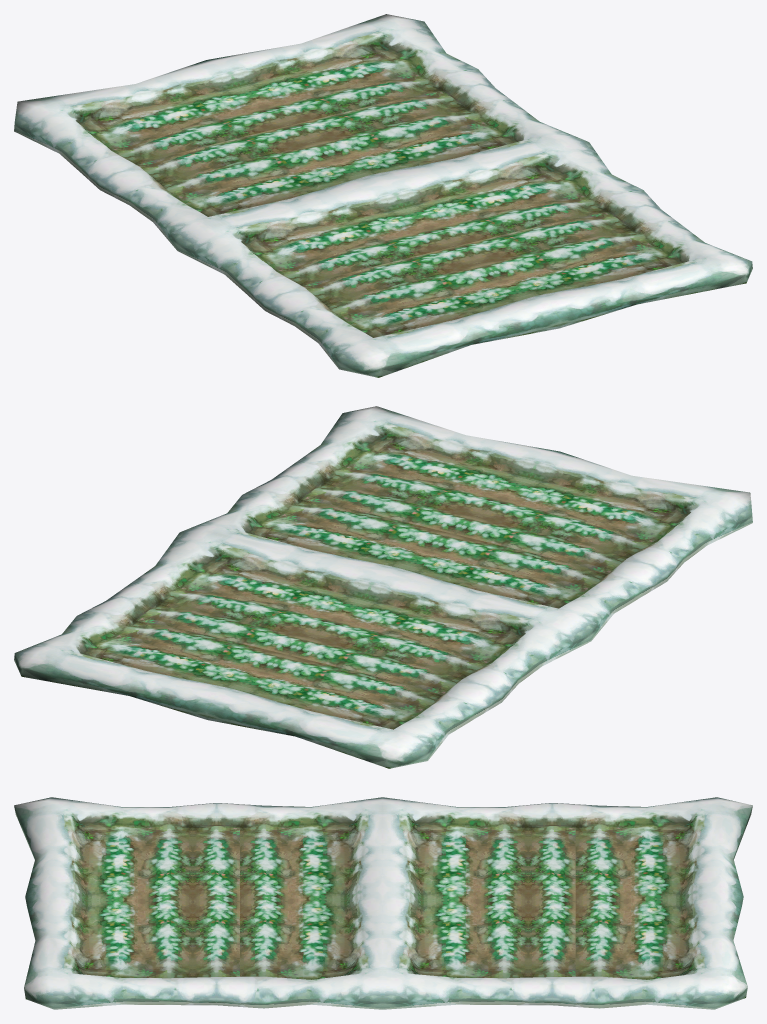
File: SM_Vegetable_01.fbx
The picture shows the model from 3 angles, top to bottom: view 1: azimuth 30°, elevation 25°; view 2: azimuth 150°, elevation 25°; view 3: azimuth 270°, elevation 25°; orthographic projection.
Visible parts, largest first — view 1: SM_Vegetable_01; view 2: SM_Vegetable_01; view 3: SM_Vegetable_01.
Boxes of the visible parts, x1=… form: SM_Vegetable_01: x1=14, y1=14, x2=752, y2=377; SM_Vegetable_01: x1=14, y1=406, x2=752, y2=768; SM_Vegetable_01: x1=14, y1=797, x2=752, y2=1009.
Bounding box in the file's own units: 11.75 × 0.5457 × 17.9.
